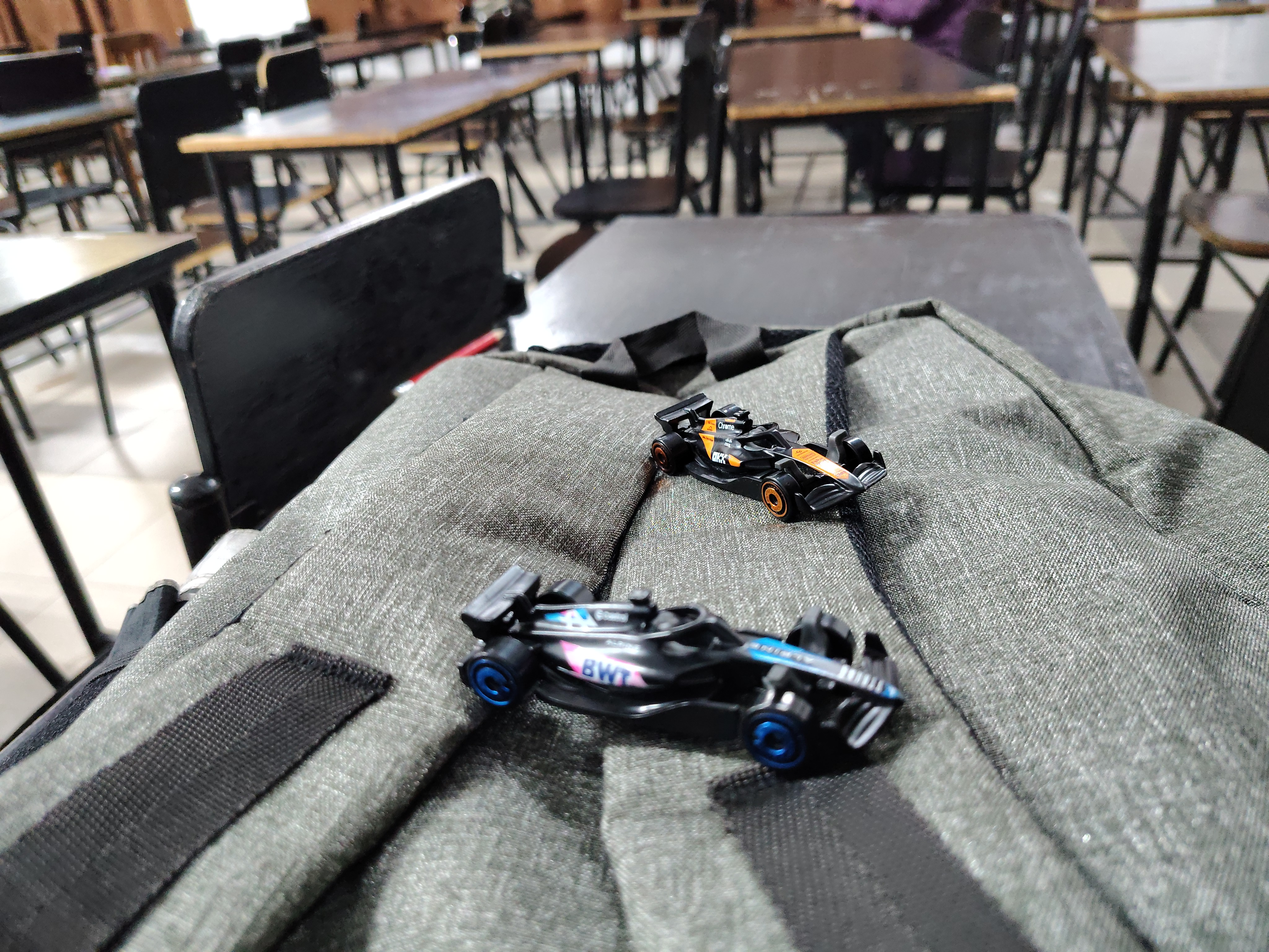Alpine A524: (414, 533, 960, 787)
McLaren MCL40: (586, 349, 934, 533)
